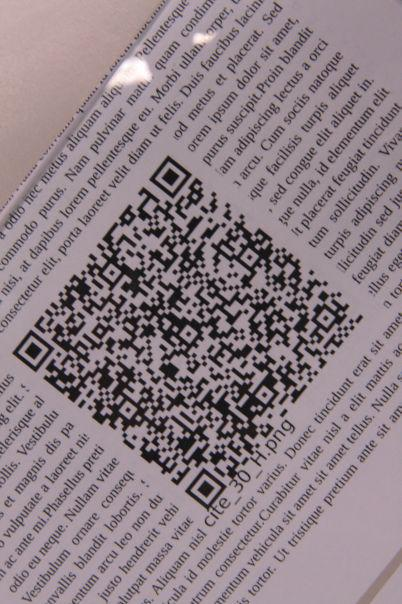Finder pattern: (149, 155, 196, 201), (14, 329, 60, 373), (184, 465, 227, 511)
